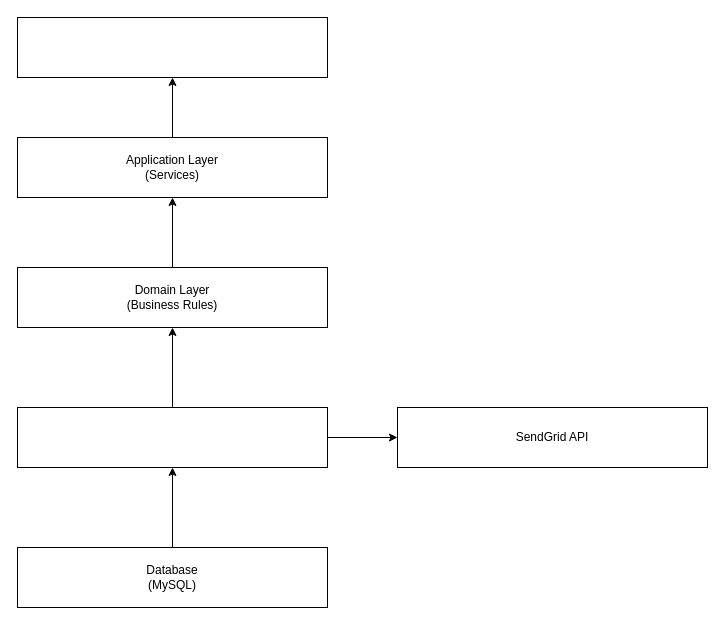
This 725x625 diagram has some shape labels left out. The centre of each missing label's shape, as x and y in pixels:
"Infrastructure Layer (DB, Email, Sessions)" belongs at (172,437).
"Presentation Layer (Web UI)" belongs at (172,47).
